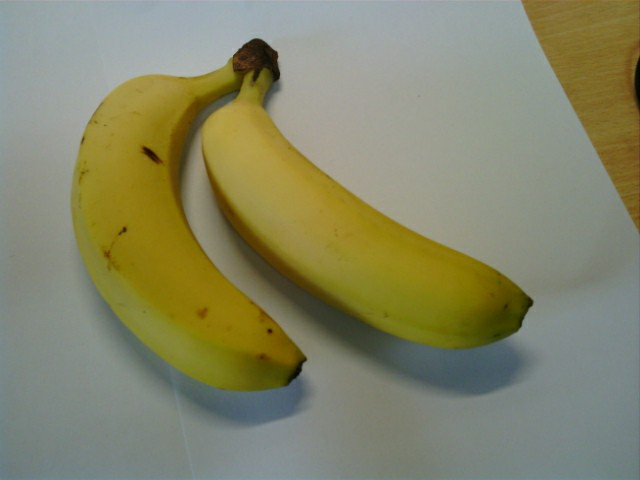fresh_banana: (201, 101, 531, 347)
normal_banana: (72, 69, 303, 387)
